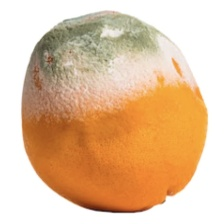orange: (26, 30, 224, 177)
